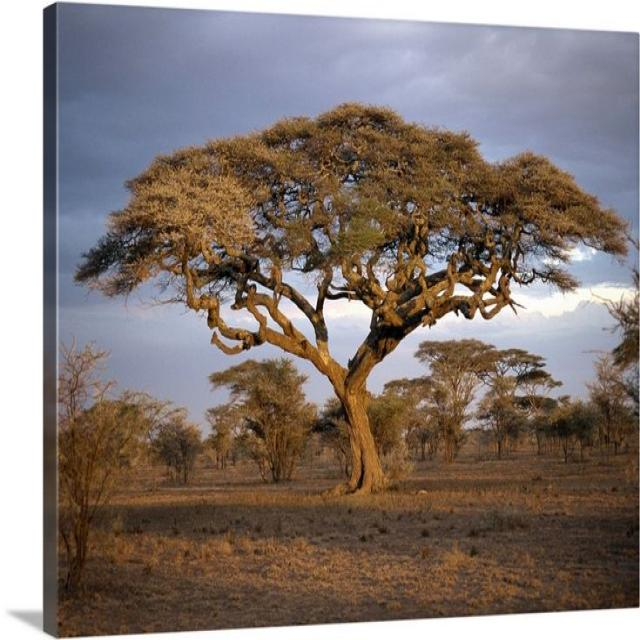Acacia: (99, 113, 615, 461)
